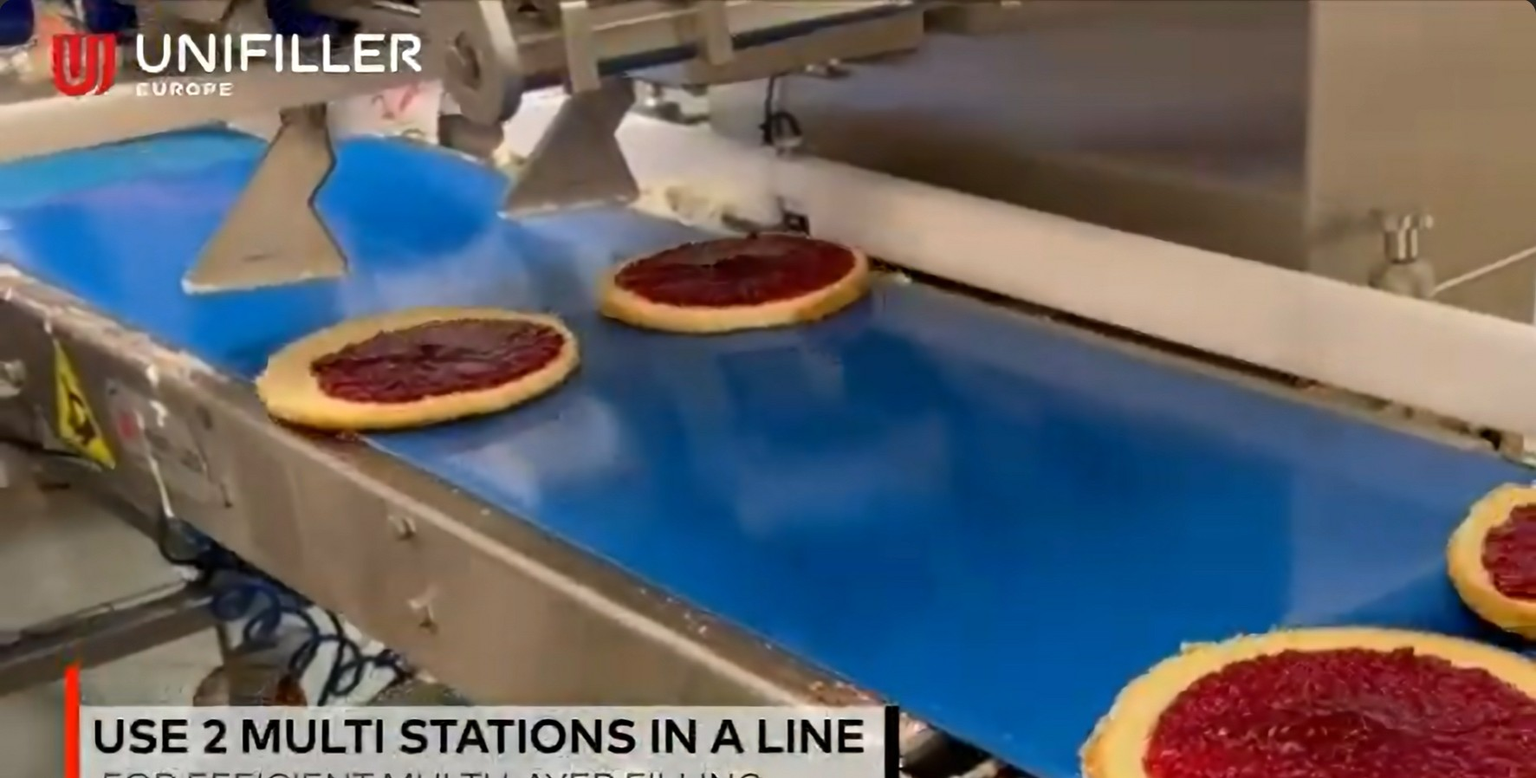Jam Coated: (1086, 623, 1536, 778), (257, 308, 576, 426), (596, 230, 864, 332), (1437, 477, 1536, 617)
